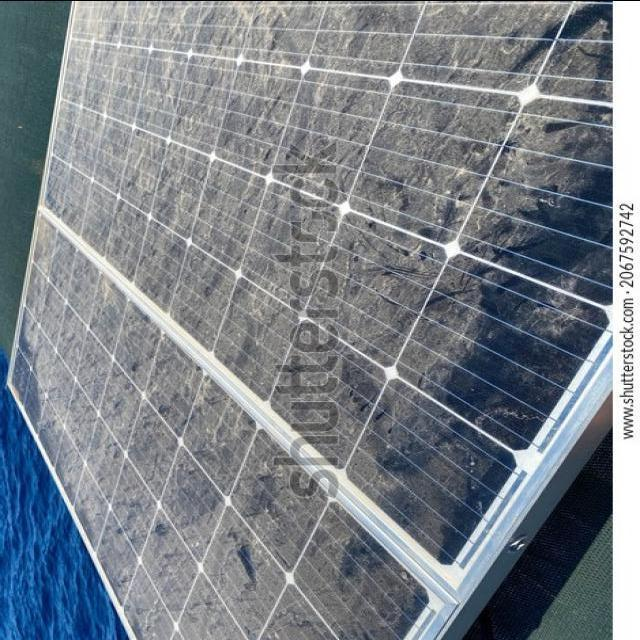Photovoltaic-Panel: (7, 0, 615, 640)
